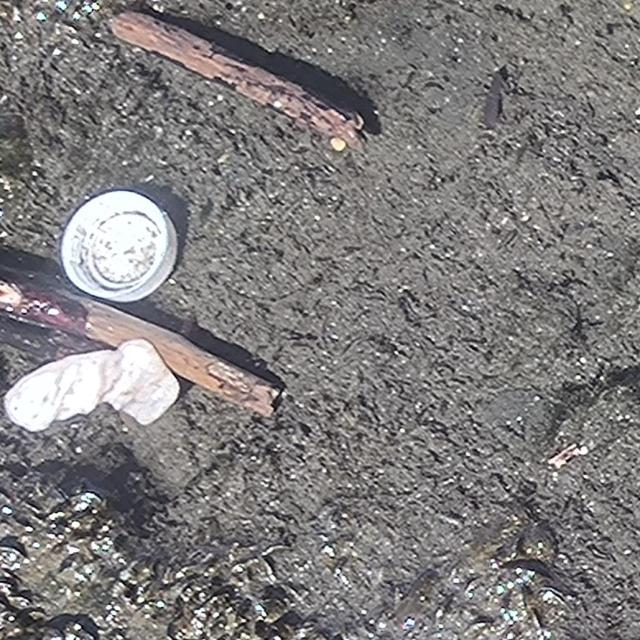plastic_waste: (61, 190, 181, 305)
